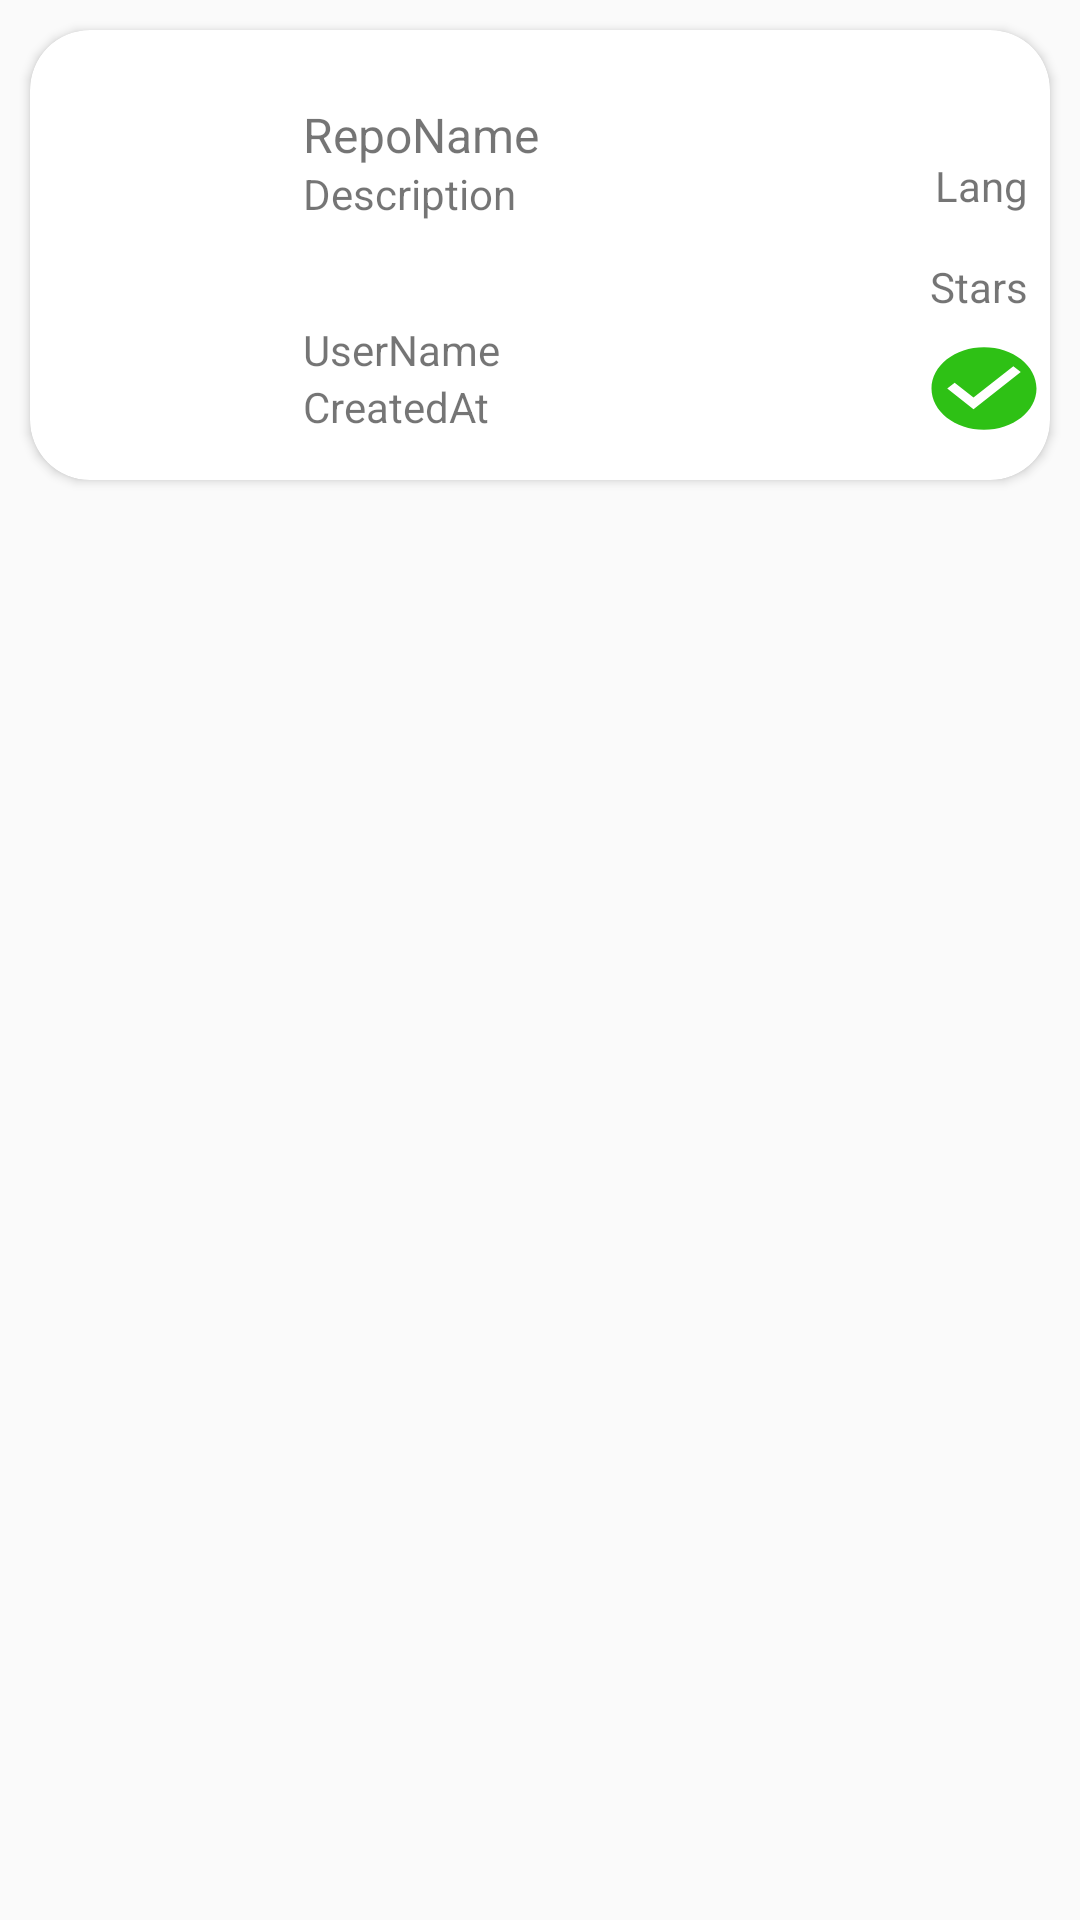

Where icons sit on this 1080 x 1920 app screen, as bbox=[x1, y1, x2, y2]:
check circle: bbox=[931, 347, 1037, 430]
